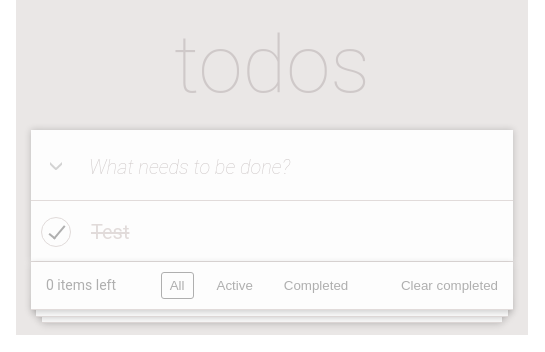
Test: MAIN FUNCTIONS › clears completed todos
Expected: the element with test id "list-item" is shown, x1=31 y1=201 x2=513 y2=262
Click the button with test id "clear-all": (450, 286) x1=401 y1=278 x2=498 y2=293
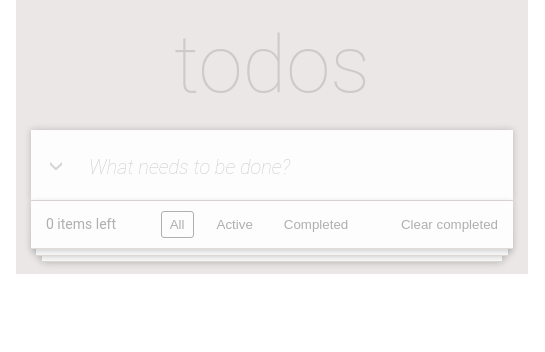
Result: the element with test id "list-item" is gone
